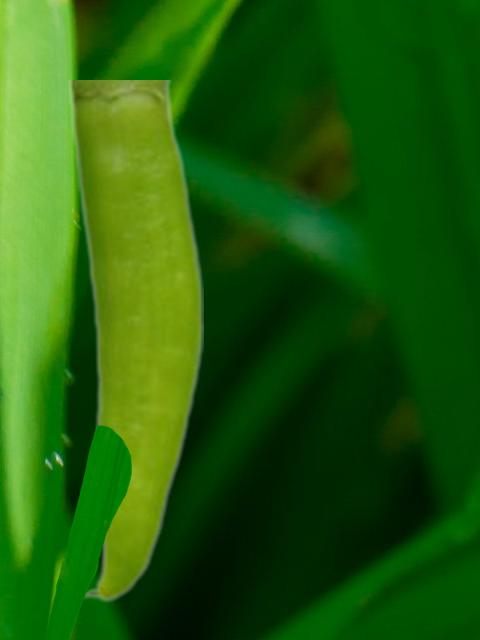green_chili: (65, 80, 202, 602)
